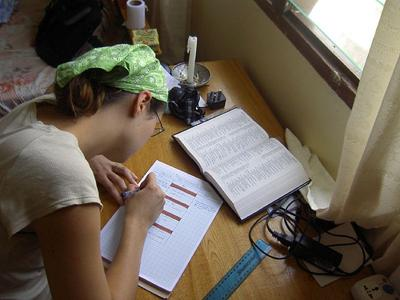person: (2, 38, 168, 299)
